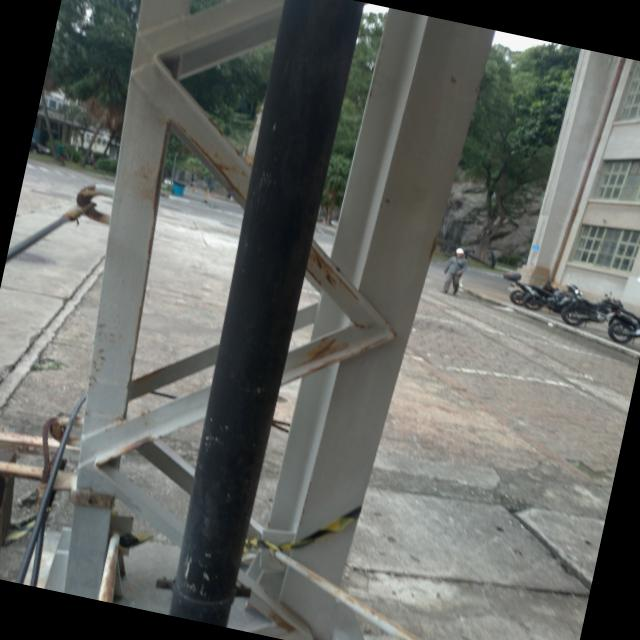gas: (167, 0, 361, 619)
